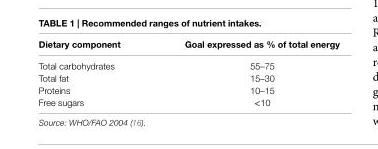table: (37, 37, 338, 109)
table column: (151, 37, 338, 109), (37, 37, 151, 109)
table column header: (37, 37, 338, 54)
table row: (37, 37, 338, 54), (37, 54, 338, 71), (37, 95, 338, 109), (37, 71, 338, 83), (37, 83, 338, 95)
